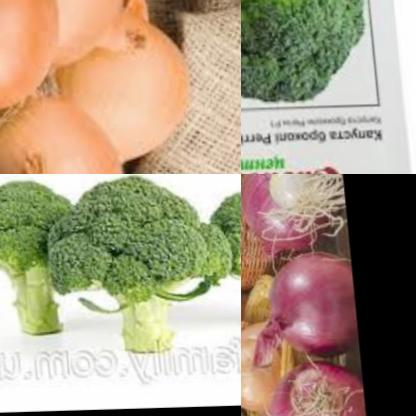broccoli: (44, 174, 218, 378), (241, 0, 371, 107), (0, 180, 78, 343), (201, 174, 241, 329)
onion: (43, 0, 201, 170), (0, 63, 127, 174), (248, 252, 353, 361), (0, 0, 134, 75), (0, 0, 63, 116), (241, 174, 311, 261), (255, 361, 361, 416), (241, 325, 286, 416), (258, 174, 321, 219), (241, 177, 254, 262)
